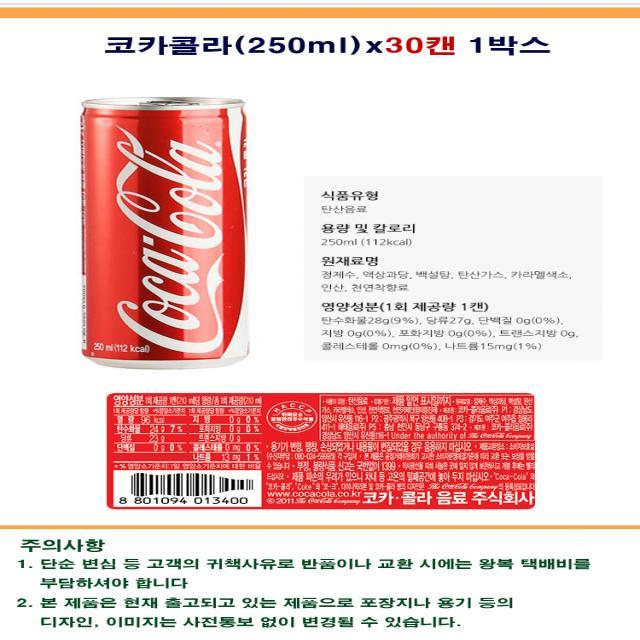coca-cola: (72, 90, 255, 374)
